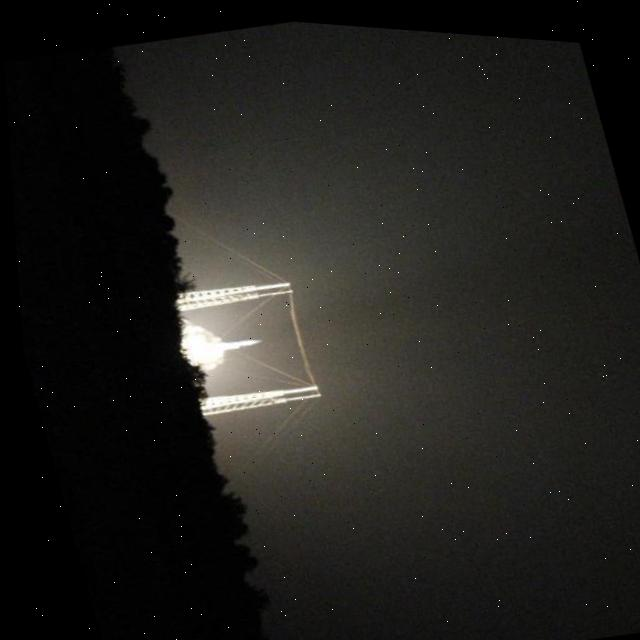missile: (211, 323, 262, 354)
